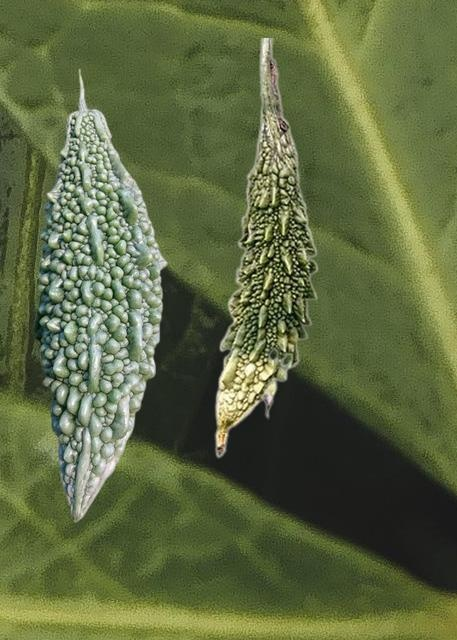ampalaya: (33, 69, 166, 521), (214, 38, 318, 458)
